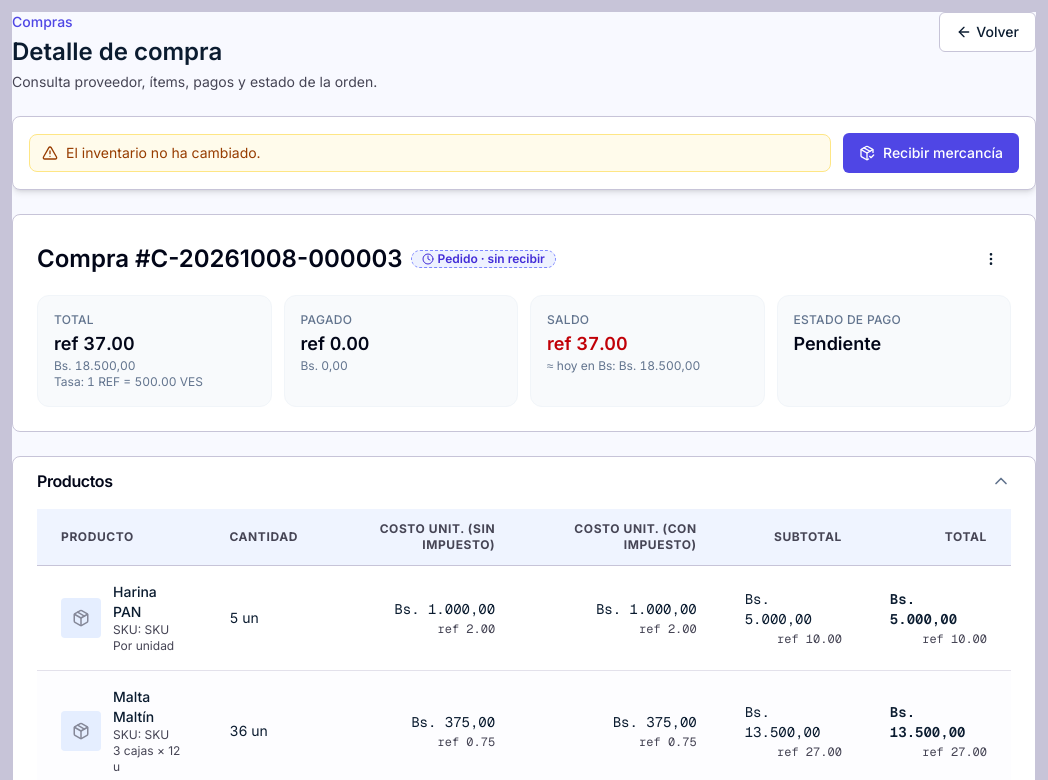
it: PurchaseDetailsPage · aviso de pedido sin recibir (COM-07) › el menú de acciones ya no repite la acción de recibir
The width and height of the screenshot is (1048, 780).
Check: the heading "Compra #C-20261008-000003" is shown, box [37, 243, 403, 275]
What coordinates should you click on to do the following:
click the button named "Acciones de"
I would click on:
 (991, 259)
Its box is [971, 239, 1011, 279].
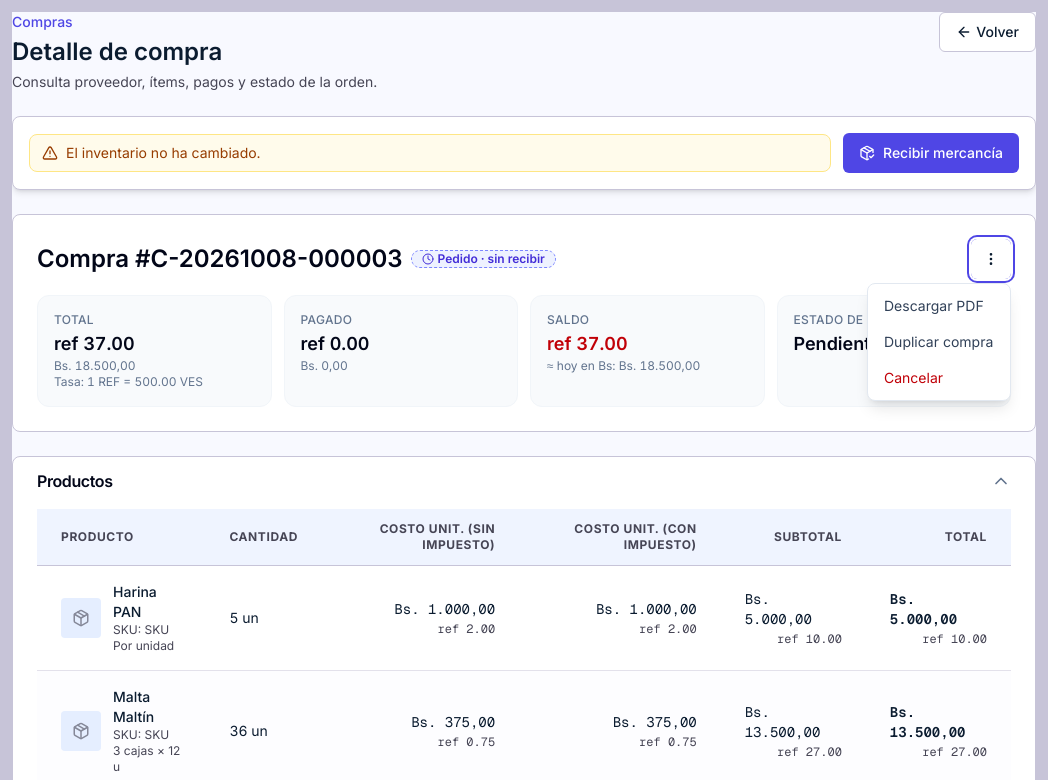
Check: the menu item "Descargar PDF" is shown, box [872, 288, 1006, 324]
